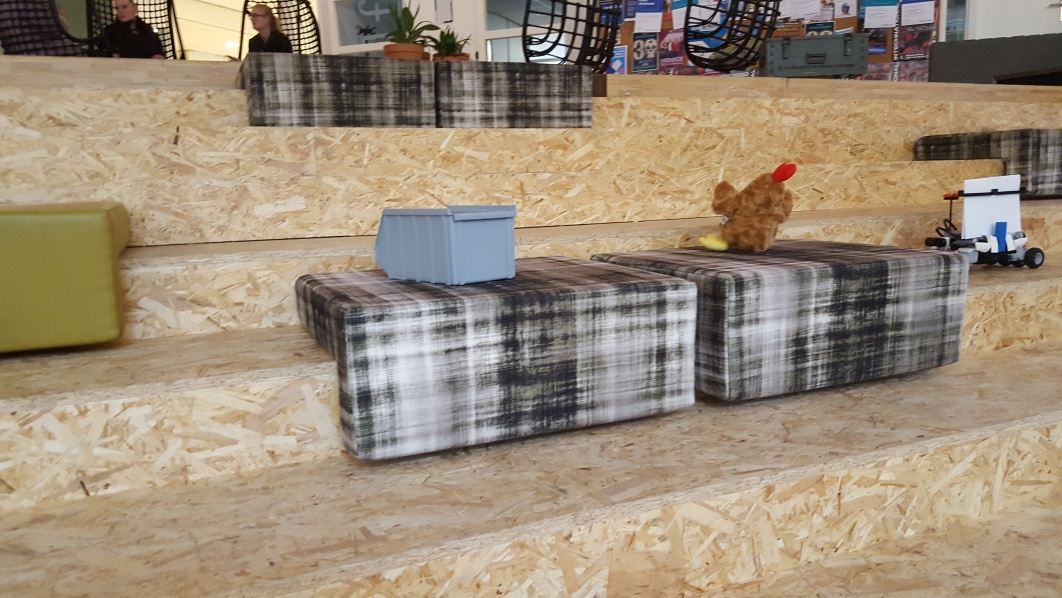beam: (992, 218, 1008, 255)
chicken: (699, 161, 800, 252)
tray: (372, 203, 520, 286)
